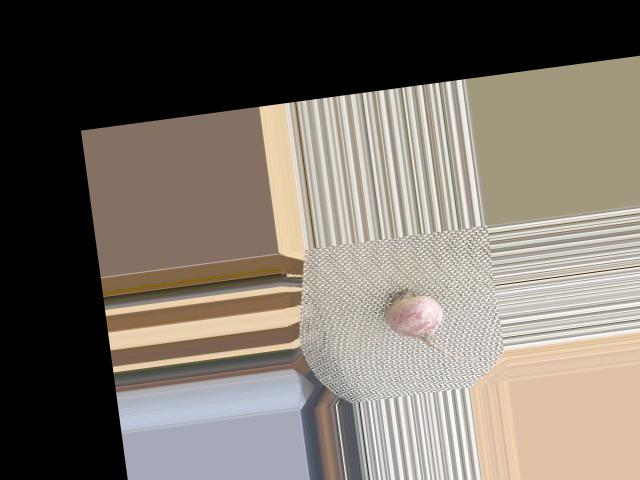beet: (381, 280, 474, 370)
